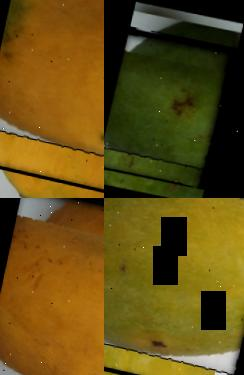PartiallyRipe: (104, 198, 244, 375)
Ripe: (0, 0, 104, 198), (0, 198, 104, 375)
Unripe: (104, 27, 238, 190)
